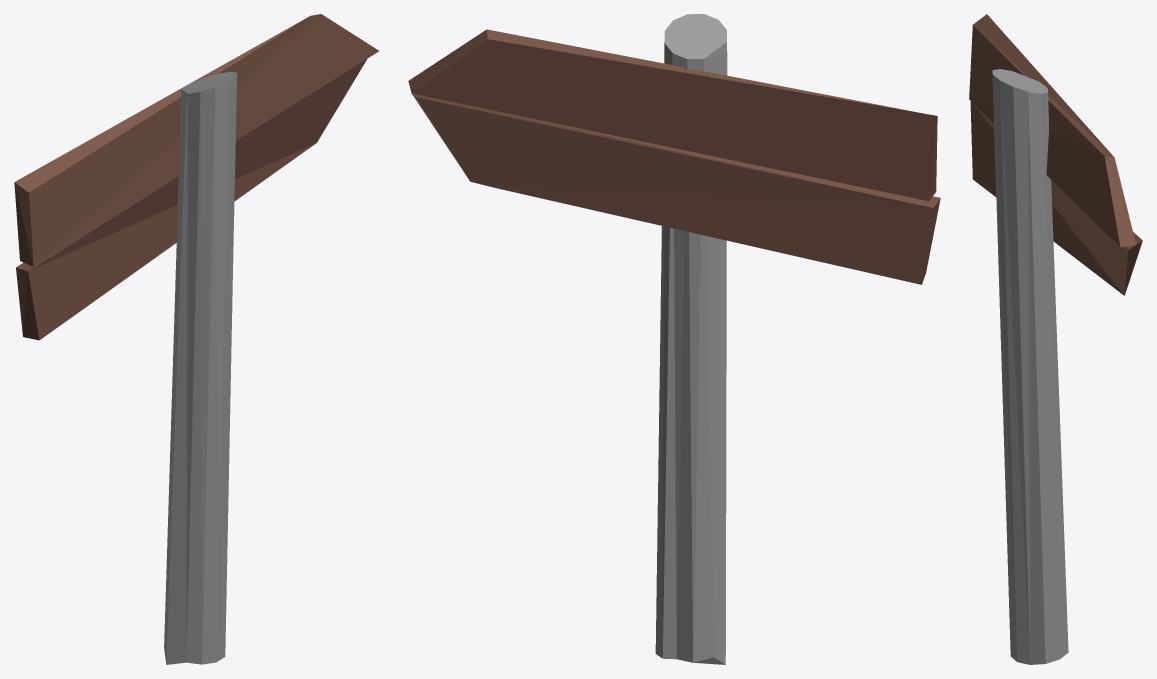
File: diy-wooden-pointy-sign.glb
3 renders of one model, left to right at view 1: azimuth 30°, elevation 25°; view 2: azimuth 150°, elevation 25°; view 3: azimuth 270°, elevation 25°, orthographic. The views are drawn at different scales.
Parts seen in each view (by area): view 1: group1396365710, group141042736, group1889346541; view 2: group141042736, group1889346541, group1396365710; view 3: group1396365710, group141042736, group1889346541.
Boxes of the visible parts, box(x1,y1,x2,y2) form: group1396365710: box(164, 71, 237, 664); group141042736: box(14, 14, 378, 266); group1889346541: box(16, 59, 366, 340); group141042736: box(408, 29, 937, 200); group1889346541: box(412, 93, 940, 284); group1396365710: box(655, 14, 727, 664); group1396365710: box(992, 69, 1068, 664); group141042736: box(969, 14, 1135, 247); group1889346541: box(970, 101, 1142, 295).
Size of the model in its own units: 0.6564 by 0.8538 by 0.2296.
